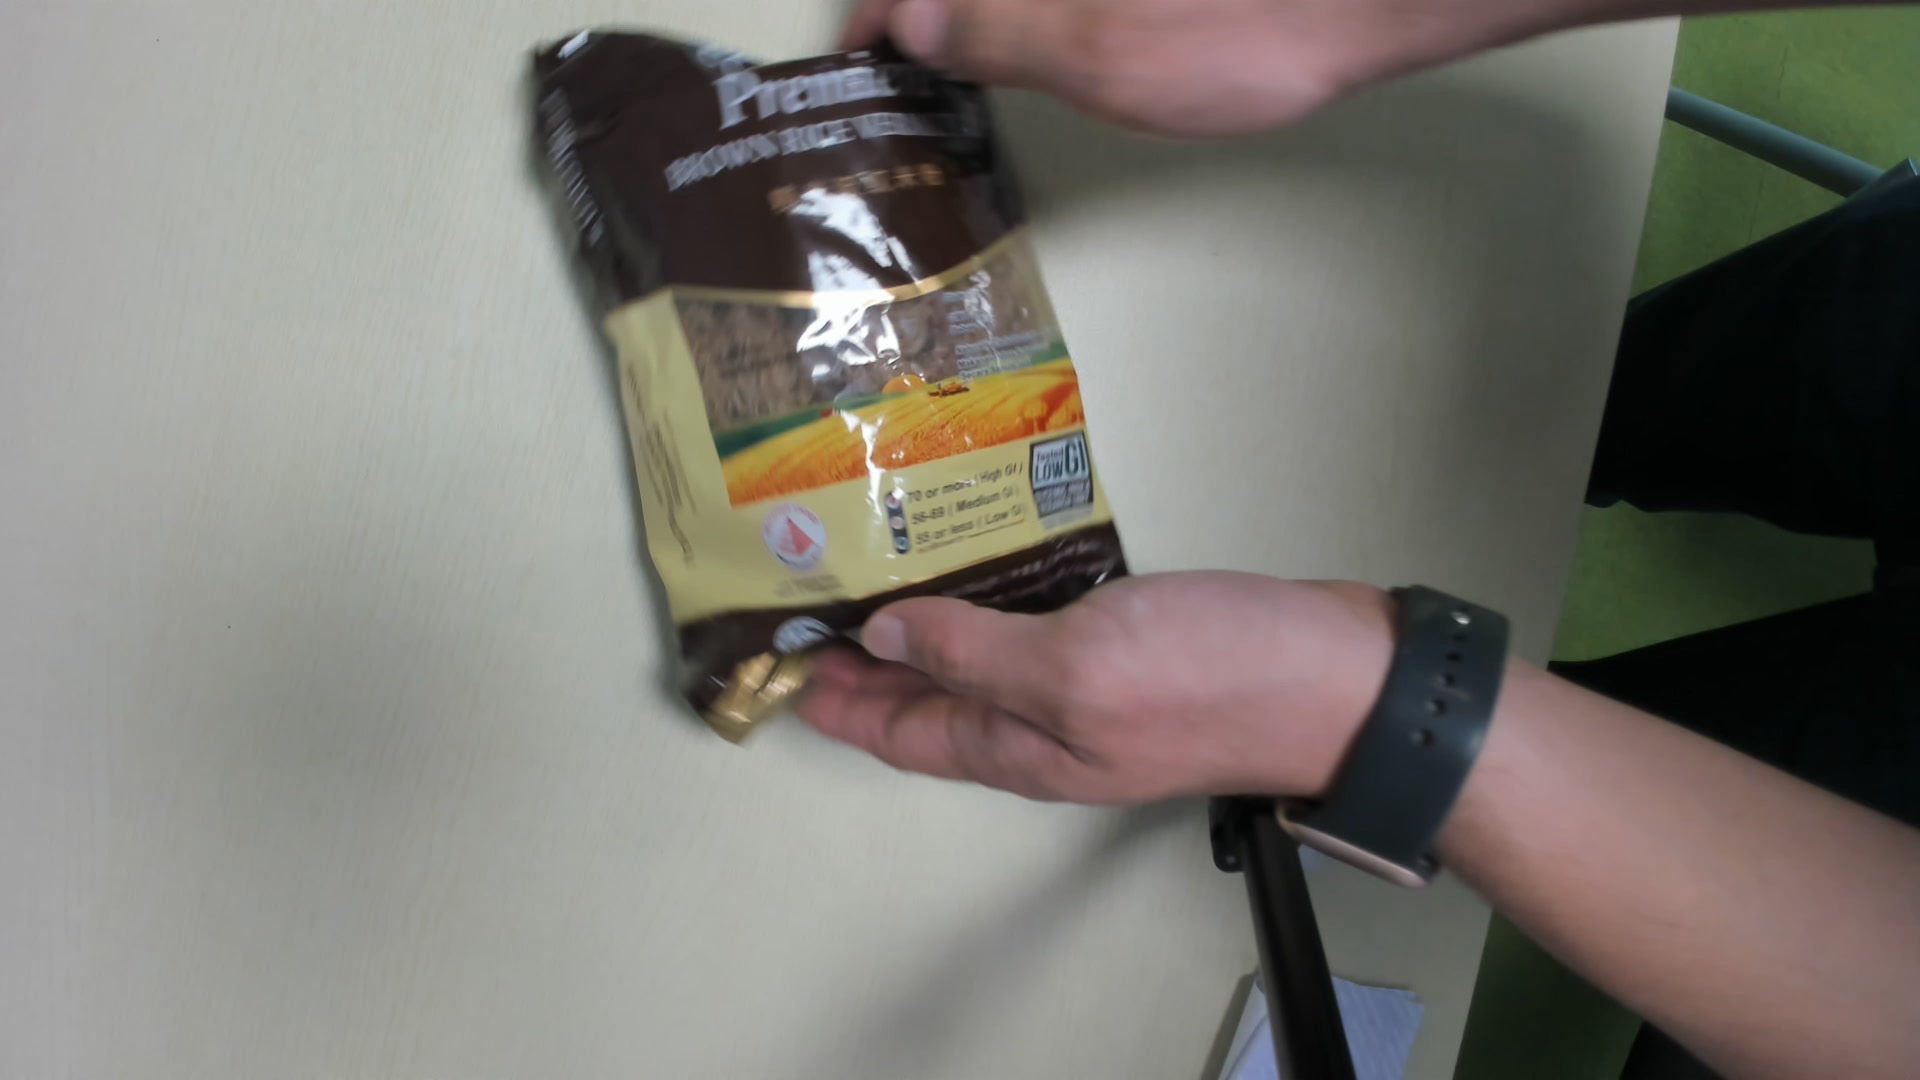BeeHoonVermicelli_300-399g_Halal_Healthy: (533, 25, 1137, 742)
